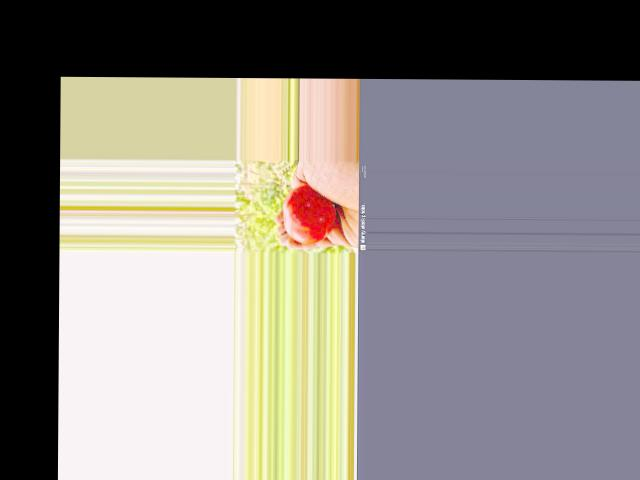tomato: (283, 184, 335, 243)
